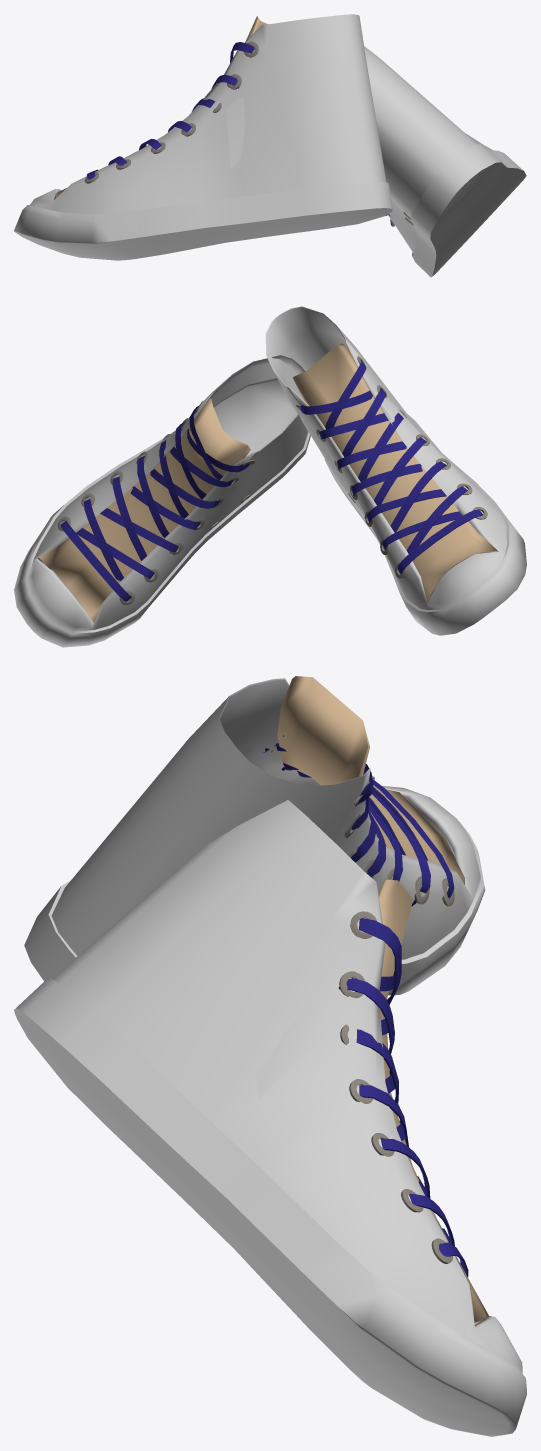
File: Shoe_LP.dae
3 views of the same model, one above another, from view 1: azimuth 30°, elevation 25°; view 2: azimuth 150°, elevation 25°; view 3: azimuth 270°, elevation 25° (orthographic). The views are drawn at different scales.
Visible parts, largest first — view 1: converse, converse1, laces; view 2: converse1, converse, conv_tongue, conv_tongue1, laces, laces1; view 3: converse1, converse, conv_tongue, laces1, laces, conv_tongue1.
Boxes of the visible parts, x1,y1,x2,y2 form: converse: (14,14,392,260); converse1: (364,46,526,277); laces: (87,42,254,179); converse1: (14,355,310,647); converse: (265,306,526,635); conv_tongue: (293,343,497,601); conv_tongue1: (39,398,250,622); laces: (300,360,483,574); laces1: (60,406,250,601); converse1: (14,800,526,1436); converse: (24,678,485,995); conv_tongue: (277,676,464,884); laces1: (338,918,468,1276); laces: (263,735,454,906); conv_tongue1: (378,879,488,1322).
Bounding box in the file's own units: 38.48 × 25.03 × 19.93.
